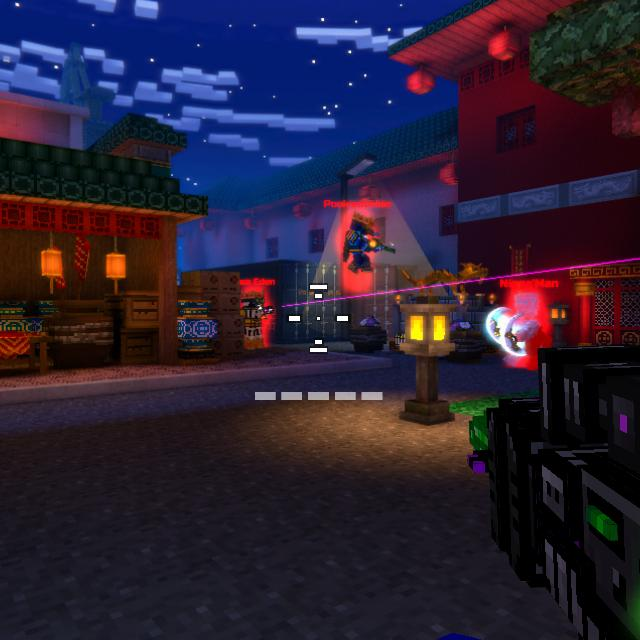Enemy: (503, 297, 543, 368), (346, 214, 380, 275), (242, 291, 272, 348)
